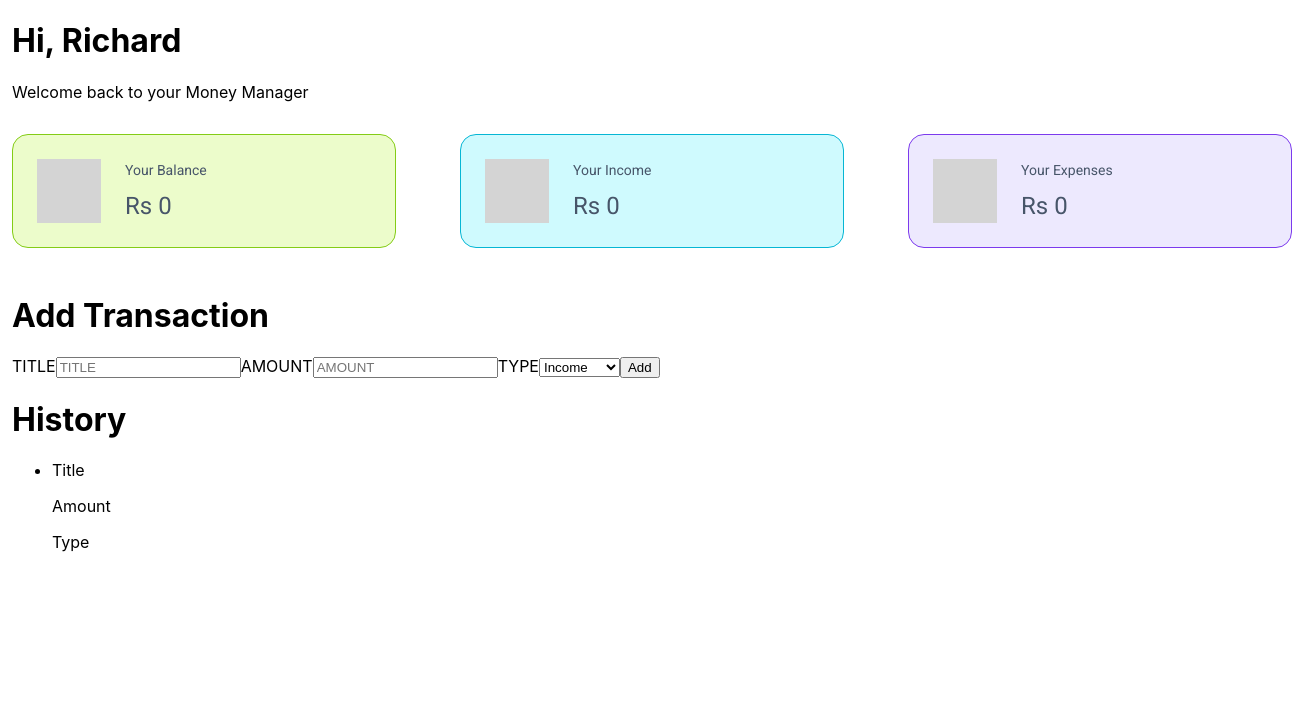
Test: :::RJSCPIK4G2_TEST_SUITE_1:::Money Manager tests › :::RJSCPIK4G2_TEST_31:::When transactions are added with "Income" and "Expenses" as types, the balance amount, income amount and expenses amount should be displ
Type "Salary" into the field labelled "TITLE" at (148, 368), box x1=56 y1=357 x2=241 y2=378
Type "25000" into the field labelled "AMOUNT" at (405, 368), box x1=313 y1=357 x2=498 y2=378
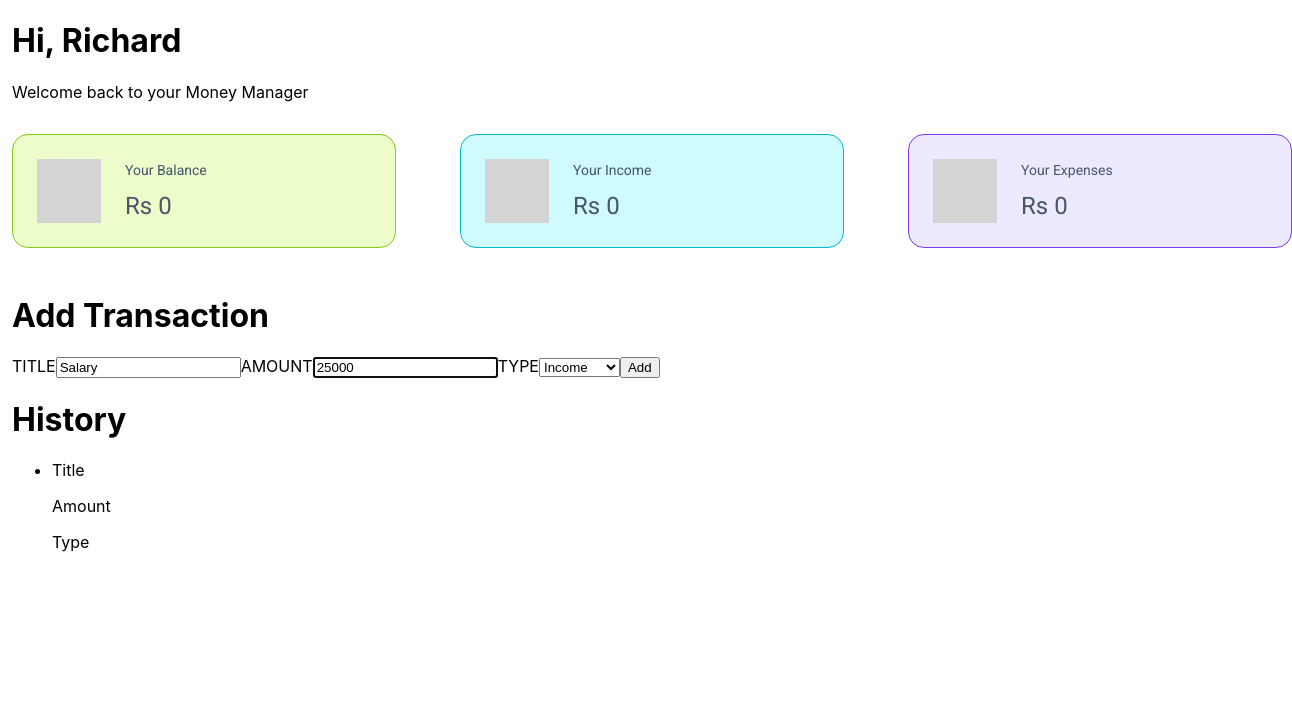
Select "Income" in the dropdown at (580, 368), box x1=539 y1=358 x2=620 y2=377
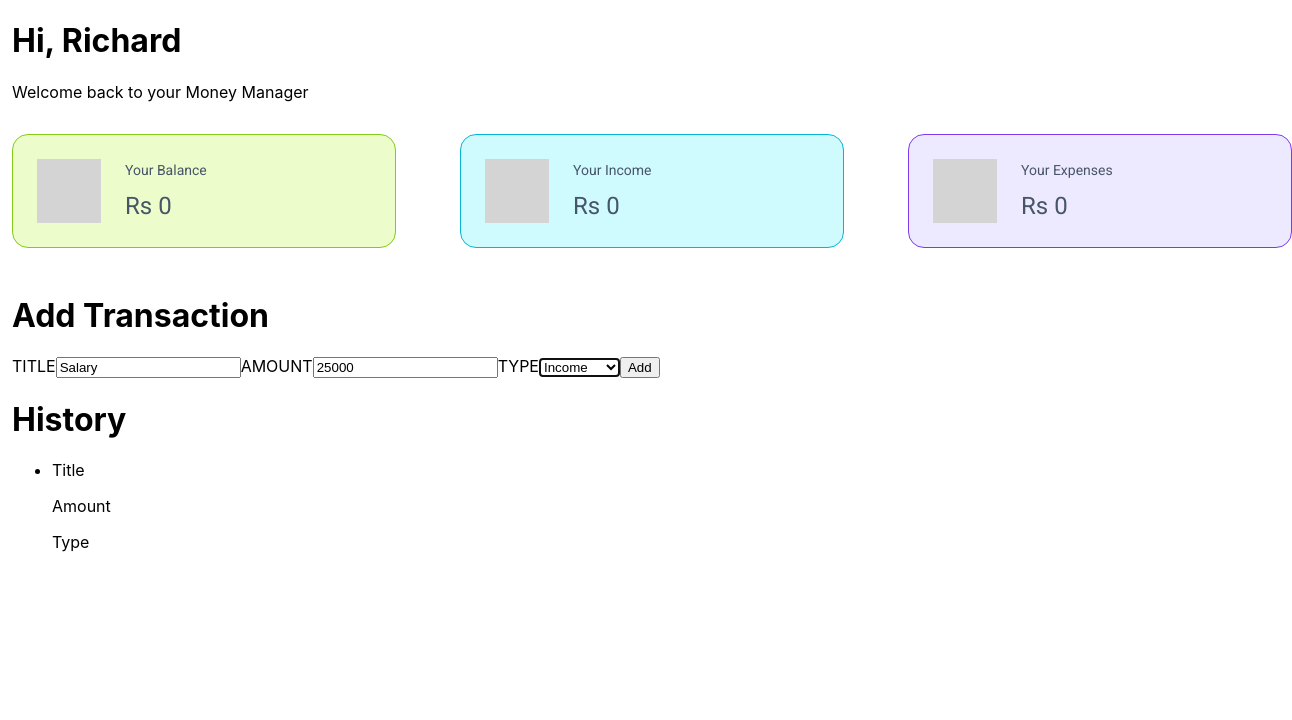
Click the button "Add" at (640, 368), box x1=620 y1=357 x2=660 y2=378
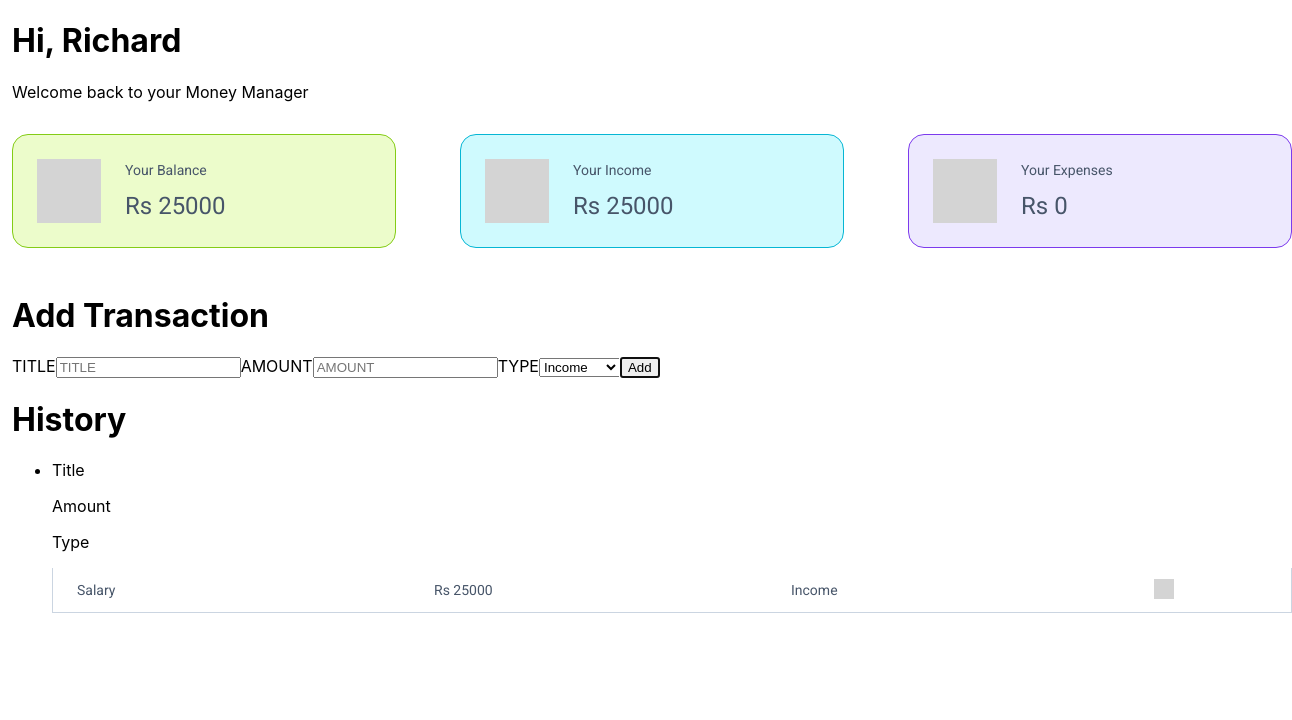
Type "Car Loan" into the field labelled "TITLE" at (148, 368), box x1=56 y1=357 x2=241 y2=378
Type "10000" into the field labelled "AMOUNT" at (405, 368), box x1=313 y1=357 x2=498 y2=378
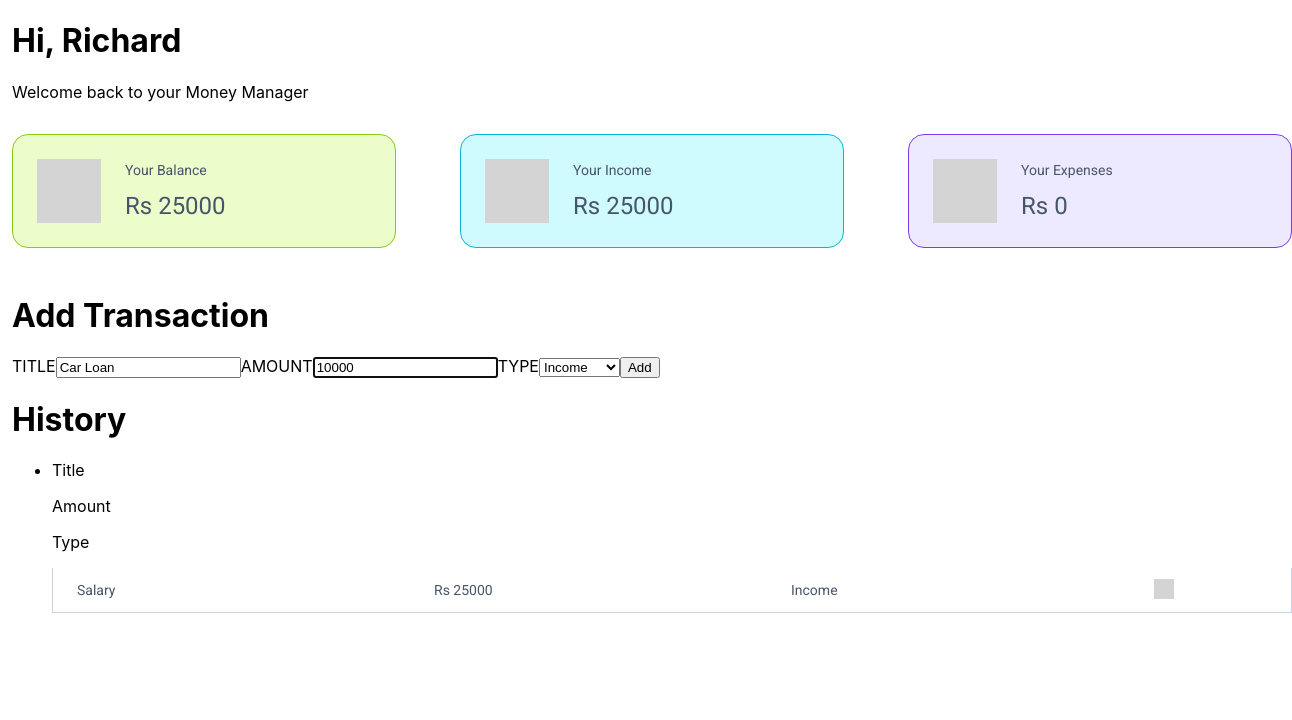
Select "Expenses" in the dropdown at (580, 368), box x1=539 y1=358 x2=620 y2=377
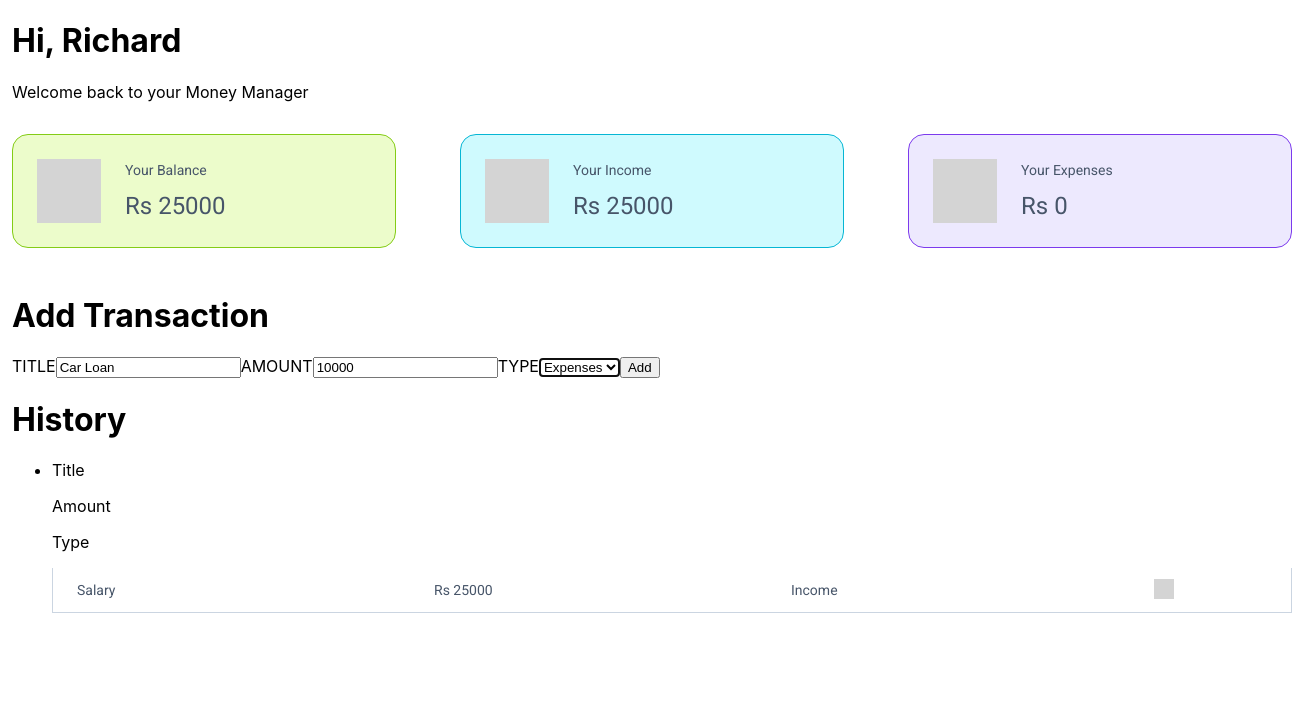
Click the button "Add" at (640, 368), box x1=620 y1=357 x2=660 y2=378
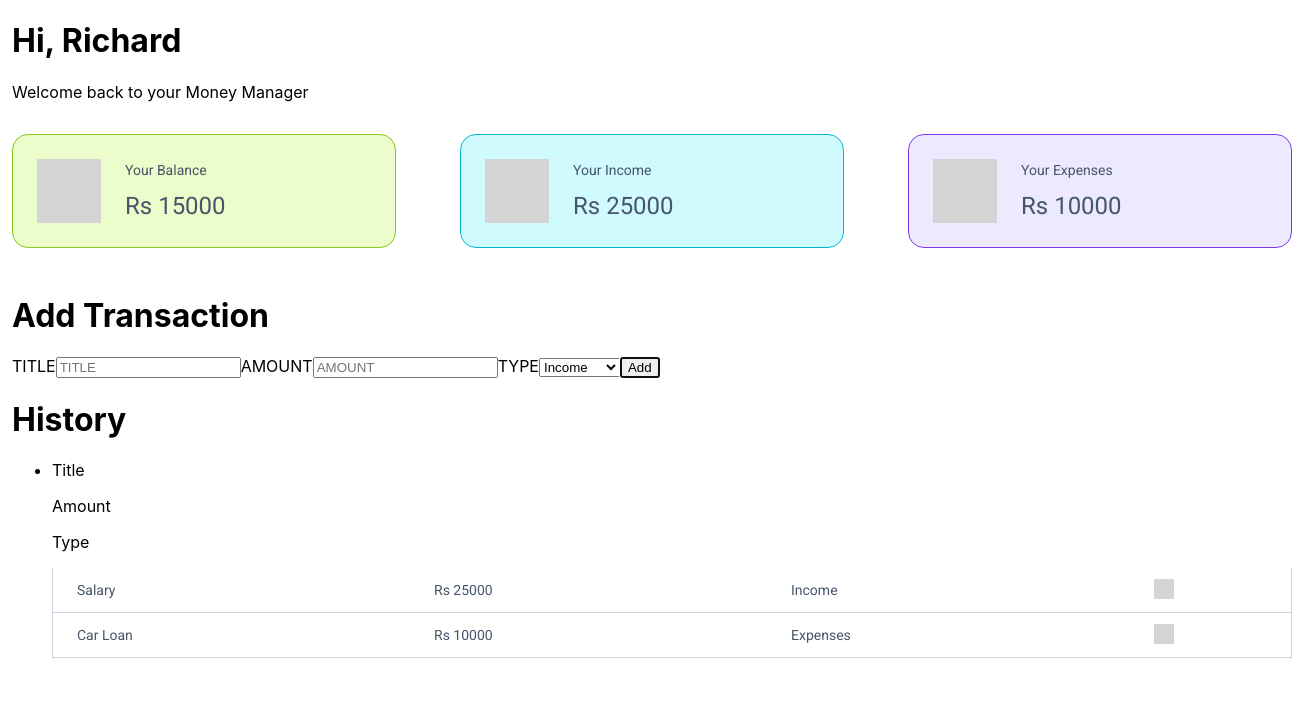
Now the text with test id "incomeAmount" shows "25000", box x1=606 y1=192 x2=674 y2=220
Now the text with test id "expensesAmount" shows "10000", box x1=1054 y1=192 x2=1122 y2=220
Now the text with test id "balanceAmount" shows "15000", box x1=158 y1=192 x2=226 y2=220
